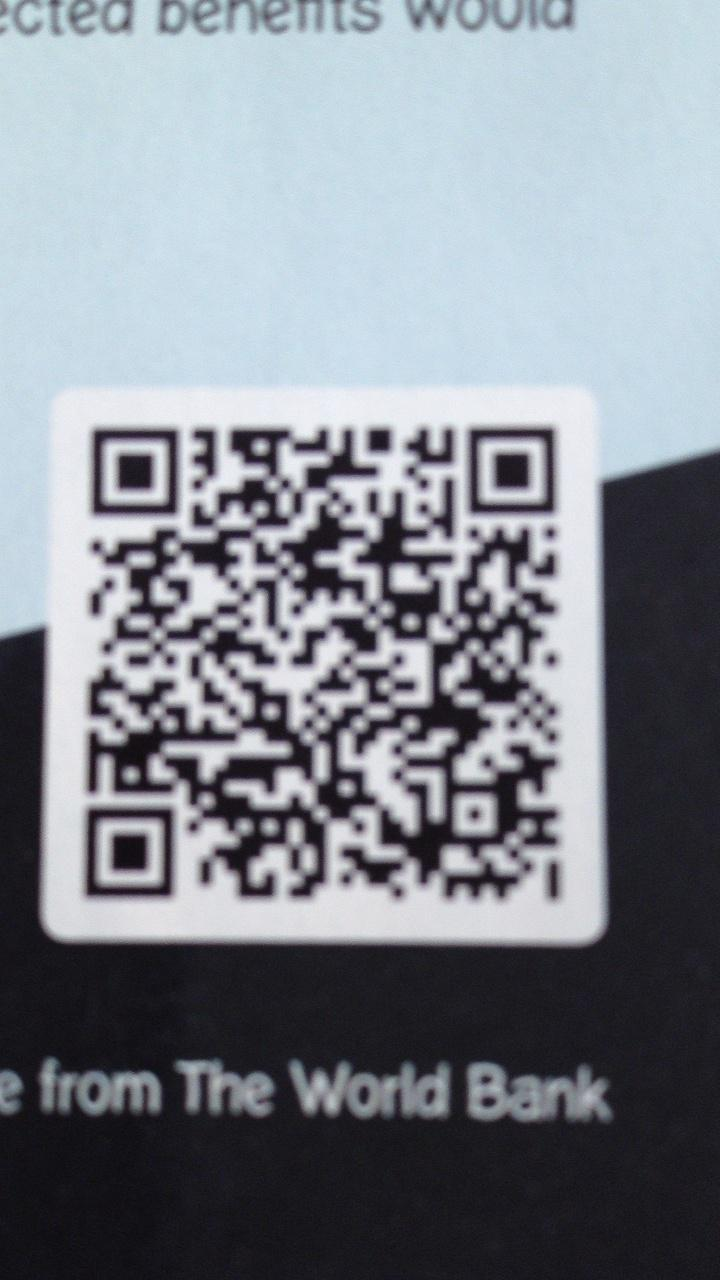Finder pattern: (75, 796, 183, 909), (78, 418, 190, 525), (457, 416, 561, 519)
